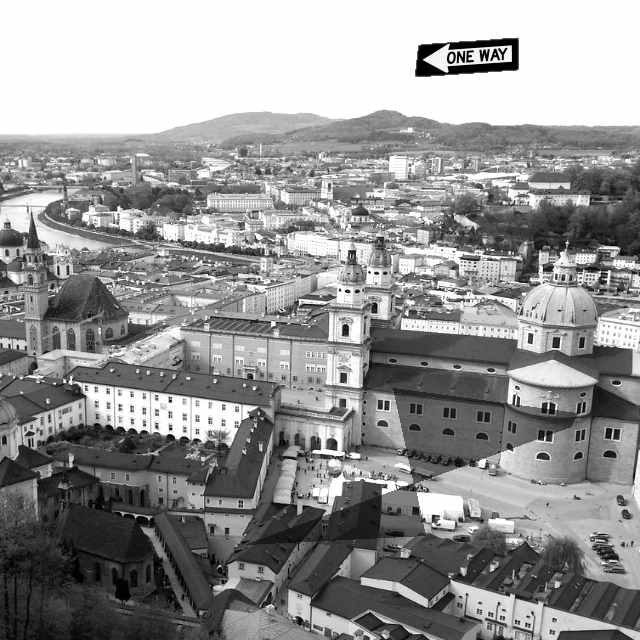ONE_WAY_ left: (414, 37, 519, 77)
